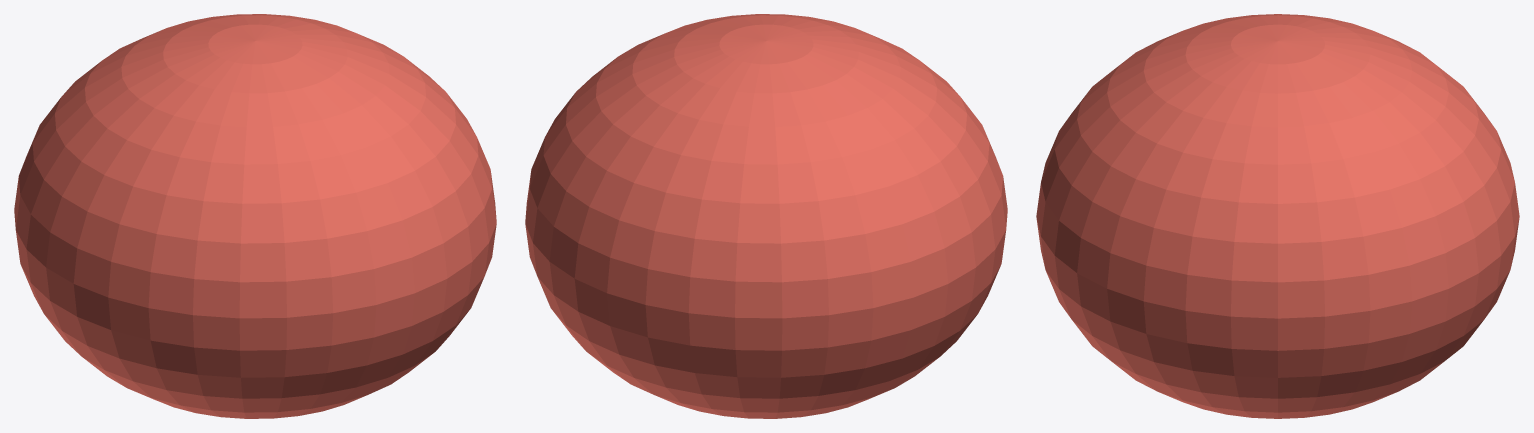
File: Customize - Prop placeholder 2.glb
3 renders of one model, left to right at view 1: azimuth 30°, elevation 25°; view 2: azimuth 150°, elevation 25°; view 3: azimuth 270°, elevation 25°, orthographic.
Visible parts, largest first — view 1: Sphere; view 2: Sphere; view 3: Sphere.
Part boxes in pixels (x1,y1,x2,y2): Sphere: (14,14,496,418); Sphere: (525,14,1007,418); Sphere: (1036,14,1519,418).
Size of the model in its own units: 0.6001 by 0.4803 by 0.6001.
